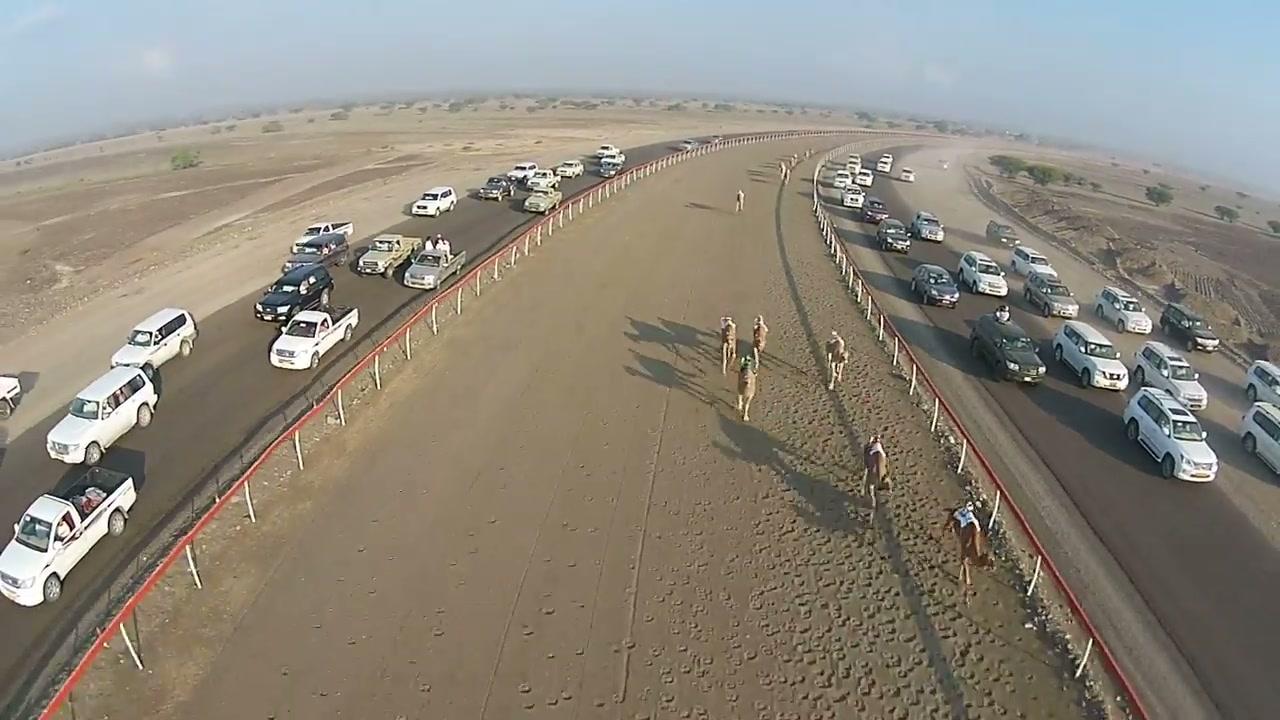animal_foot_print: (660, 402, 1011, 719)
